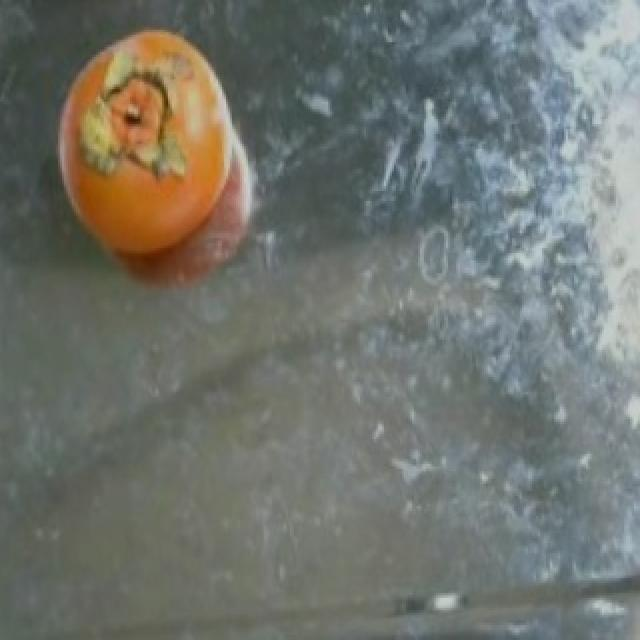Fruit: (32, 12, 278, 318)
